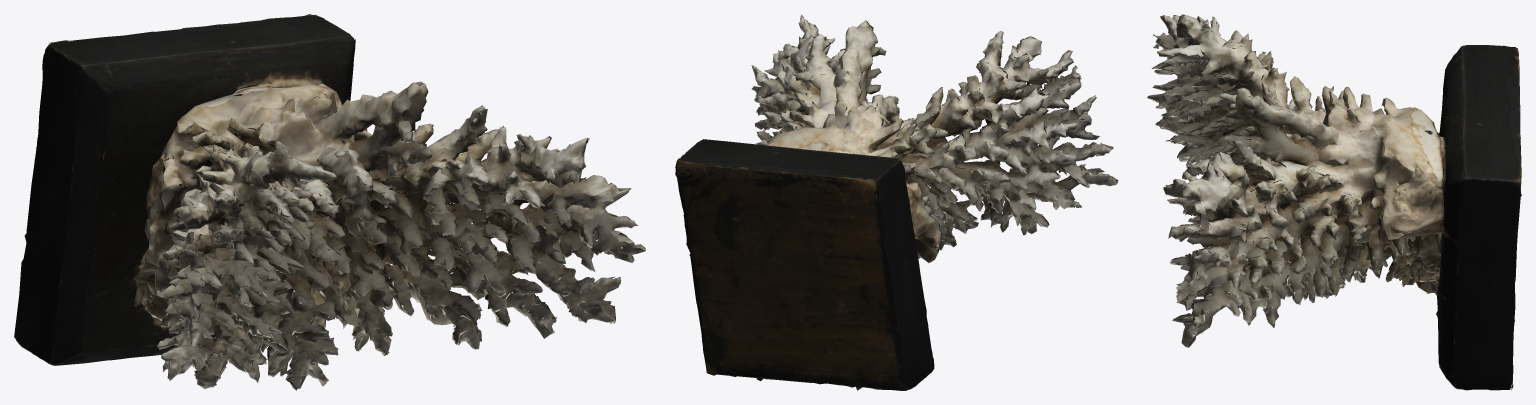
File: Hyacinthus_LOD0.fbx
The picture shows the model from 3 angles, left to right: view 1: azimuth 30°, elevation 25°; view 2: azimuth 150°, elevation 25°; view 3: azimuth 270°, elevation 25°; orthographic projection. The views are drawn at different scales.
Parts seen in each view (by area): view 1: Hyacinthus_LOD0; view 2: Hyacinthus_LOD0; view 3: Hyacinthus_LOD0.
Part boxes in pixels (bbox=[...]): Hyacinthus_LOD0: bbox=[14, 14, 646, 390]; Hyacinthus_LOD0: bbox=[675, 14, 1118, 390]; Hyacinthus_LOD0: bbox=[1147, 14, 1521, 390].
Bounding box in the file's own units: 100 × 71.74 × 85.2.
Materials: 1 (1 with a texture image).
